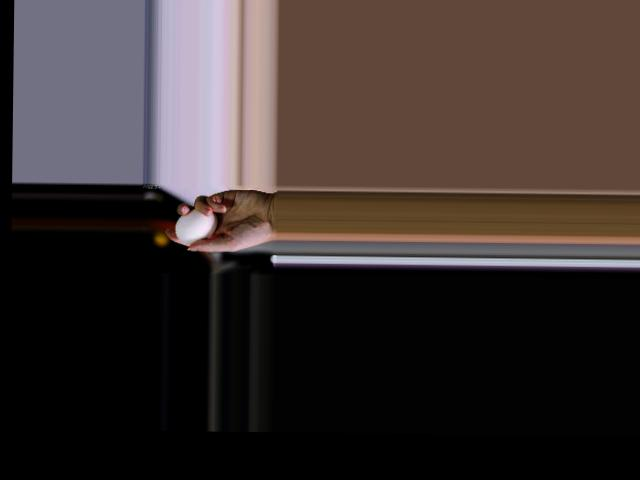egg: (174, 208, 216, 243)
